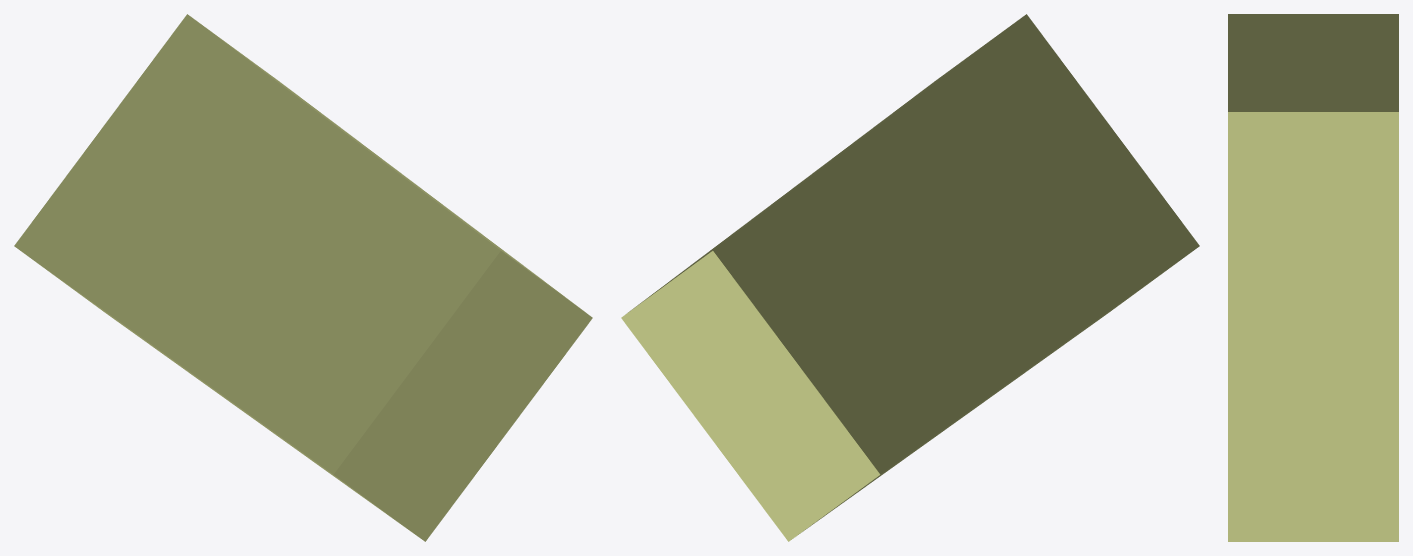
3 renders of one model, left to right at view 1: azimuth 30°, elevation 25°; view 2: azimuth 150°, elevation 25°; view 3: azimuth 270°, elevation 25°, orthographic. The views are drawn at different scales.
Parts seen in each view (by area): view 1: 0_1_2_0_0_2_1_3_1_1; view 2: 0_1_2_0_0_2_1_3_1_1; view 3: 0_1_2_0_0_2_1_3_1_1.
Boxes of the visible parts, x1,y1,x2,y2 form: 0_1_2_0_0_2_1_3_1_1: (14, 14, 592, 541); 0_1_2_0_0_2_1_3_1_1: (621, 14, 1199, 541); 0_1_2_0_0_2_1_3_1_1: (1228, 14, 1398, 541).
Bounding box in the file's own units: 18.35 × 17.88 × 6.
